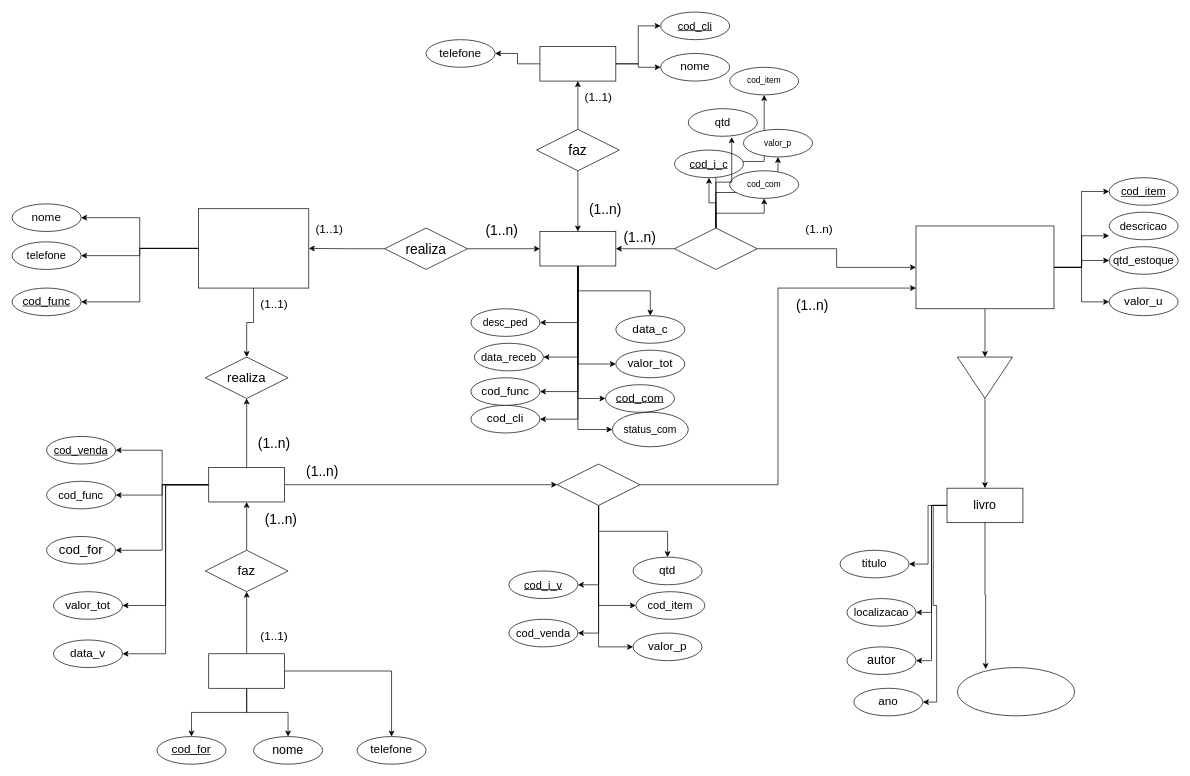
Image size: 1190x776. Some labels were removed from this diagram. Here are the shapes that lost their labels. From the top down, the box of each, then its label:
(539, 46, 616, 81): cliente
(198, 208, 309, 288): funcionario
(539, 231, 616, 266): compra
(674, 227, 757, 269): item_compra
(915, 225, 1054, 309): item
(957, 356, 1013, 398): ISA
(208, 467, 285, 502): venda
(556, 463, 640, 505): item_venda
(208, 653, 285, 688): fornecedor
(957, 667, 1075, 716): area_ ensino
